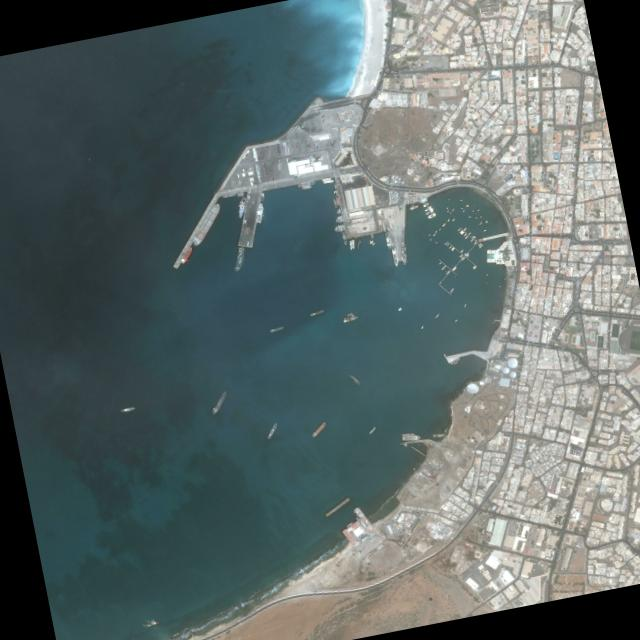ship: (192, 203, 223, 247), (210, 391, 229, 415), (234, 248, 246, 272), (311, 421, 327, 438), (180, 247, 194, 265), (237, 197, 247, 218), (391, 247, 400, 268), (255, 203, 264, 223), (267, 423, 278, 439), (343, 315, 359, 323), (385, 232, 392, 250), (298, 181, 316, 188), (310, 309, 325, 317), (143, 621, 160, 627), (270, 326, 284, 333), (450, 357, 461, 365), (342, 232, 348, 246), (121, 407, 135, 413), (368, 426, 377, 435), (402, 436, 422, 440), (223, 193, 237, 198), (301, 185, 314, 190), (333, 197, 338, 209), (403, 252, 407, 266), (433, 434, 447, 438), (346, 314, 356, 319), (346, 522, 354, 528), (434, 312, 440, 319), (337, 224, 342, 232), (323, 180, 333, 184), (322, 178, 332, 182), (402, 433, 415, 436), (449, 287, 455, 293), (261, 192, 265, 201), (445, 269, 451, 275), (441, 265, 447, 271), (337, 215, 341, 223), (341, 223, 345, 231), (339, 215, 343, 222), (352, 240, 355, 249), (464, 235, 469, 240), (452, 266, 457, 271), (453, 361, 459, 365), (340, 224, 343, 232), (347, 312, 353, 316), (335, 189, 338, 197), (238, 193, 245, 196), (398, 307, 403, 311), (442, 223, 447, 227), (473, 235, 477, 240), (424, 208, 429, 212), (427, 214, 432, 218), (370, 239, 374, 244), (350, 241, 352, 251), (472, 265, 477, 269), (461, 257, 466, 261), (338, 208, 341, 214), (334, 184, 337, 190), (404, 243, 406, 252), (336, 226, 339, 232), (433, 213, 437, 217), (479, 221, 483, 225), (428, 205, 432, 209), (465, 253, 469, 257), (460, 249, 464, 253), (444, 242, 448, 246), (457, 228, 461, 232), (237, 192, 245, 194), (463, 227, 467, 231), (451, 247, 455, 251), (372, 242, 376, 246), (463, 252, 467, 256), (466, 254, 470, 258), (461, 231, 465, 235), (452, 218, 456, 222), (438, 227, 442, 231), (459, 254, 463, 258), (460, 255, 464, 259), (337, 209, 340, 214), (429, 208, 434, 211), (464, 303, 467, 308), (414, 204, 419, 207), (335, 227, 338, 232), (238, 195, 245, 197), (421, 325, 424, 329), (430, 209, 434, 212), (431, 210, 435, 213), (432, 212, 436, 215), (483, 229, 487, 232), (485, 220, 489, 223), (479, 216, 483, 219), (468, 232, 472, 235), (403, 443, 407, 446), (415, 206, 419, 209), (423, 205, 427, 208), (452, 208, 455, 212), (447, 209, 450, 213), (426, 212, 430, 215), (428, 216, 432, 219), (336, 219, 339, 223), (472, 235, 475, 239), (470, 239, 474, 242), (464, 233, 467, 237), (446, 243, 450, 246), (449, 245, 452, 249), (435, 230, 438, 234), (433, 233, 436, 237), (429, 207, 432, 210), (356, 514, 359, 517), (357, 518, 360, 521), (353, 511, 356, 514), (426, 211, 429, 214), (449, 211, 452, 214), (455, 319, 458, 322), (474, 242, 477, 245), (428, 233, 431, 236), (429, 238, 432, 241), (486, 273, 489, 276), (439, 262, 442, 265), (356, 517, 359, 520), (411, 207, 413, 211), (412, 206, 414, 210), (468, 216, 472, 218), (448, 218, 450, 222), (471, 210, 475, 212), (477, 209, 481, 211), (427, 203, 430, 205), (423, 204, 426, 206), (466, 205, 469, 207), (446, 207, 449, 209), (334, 190, 335, 195), (475, 239, 477, 241), (463, 210, 465, 212), (410, 207, 411, 210), (461, 208, 464, 209), (435, 242, 438, 243), (460, 200, 463, 201), (475, 217, 477, 218)
storage-tank: (466, 382, 480, 396), (507, 357, 520, 369), (509, 371, 518, 379), (502, 366, 510, 374), (479, 381, 485, 386)
